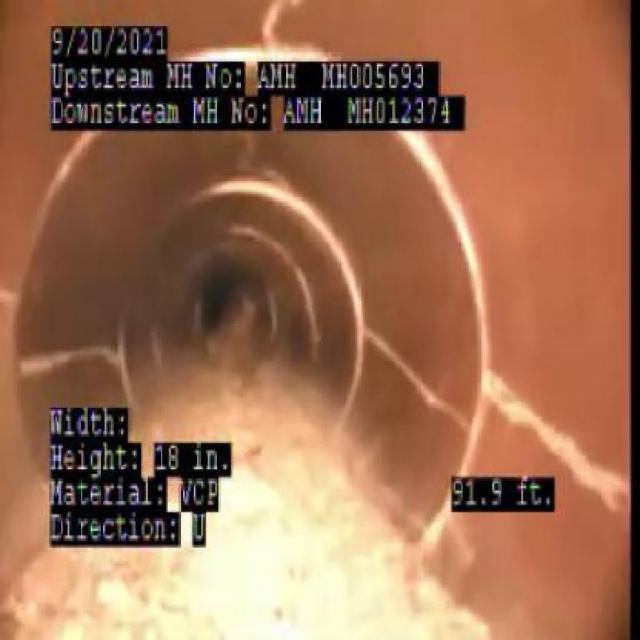Crack: (491, 368, 615, 474), (19, 339, 116, 386)
